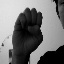e: (11, 6, 44, 50)
